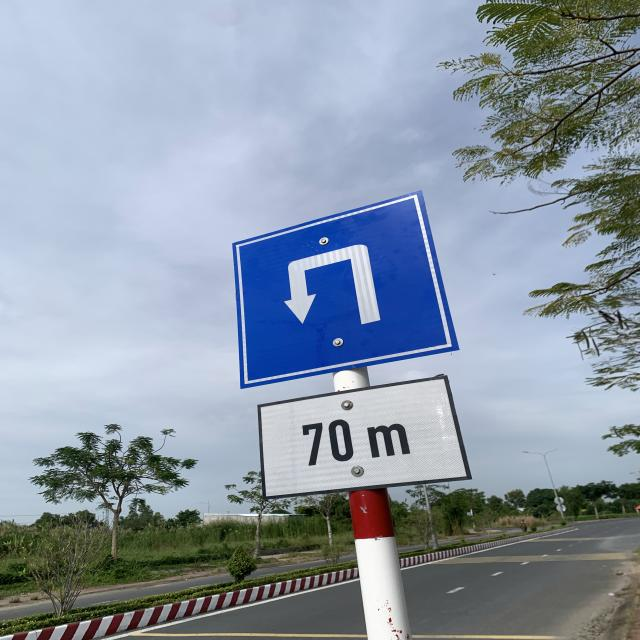Den_Giao_Thong: (234, 191, 464, 389)
